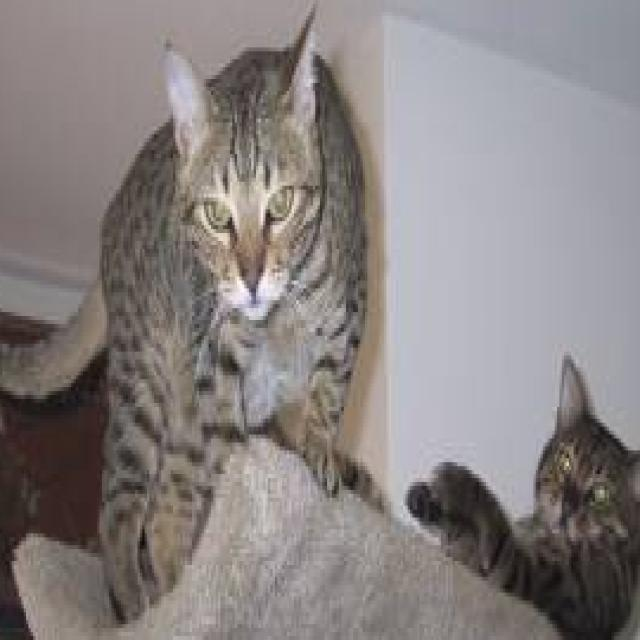Bengal: (0, 0, 372, 624), (393, 296, 640, 640)
